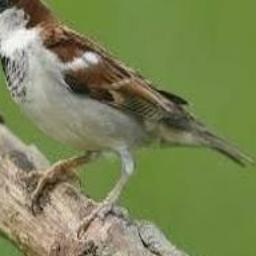Sparrow: (0, 0, 256, 236)
